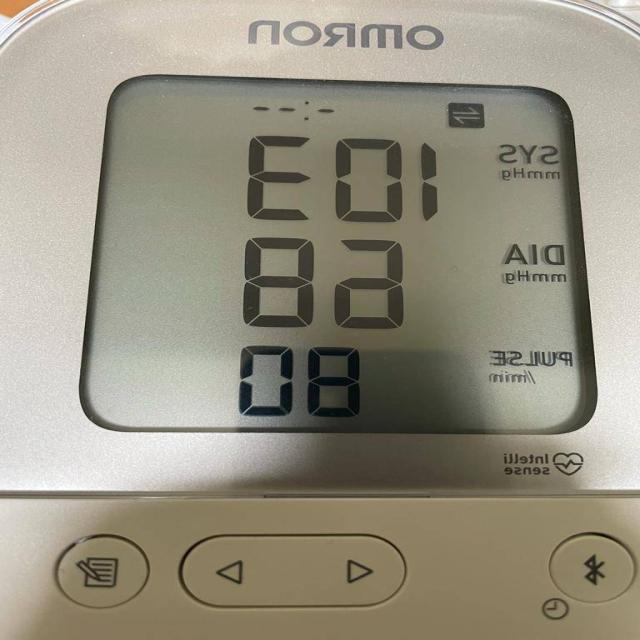bp: (1, 0, 640, 639)
